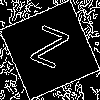Z: (25, 25, 71, 78)
